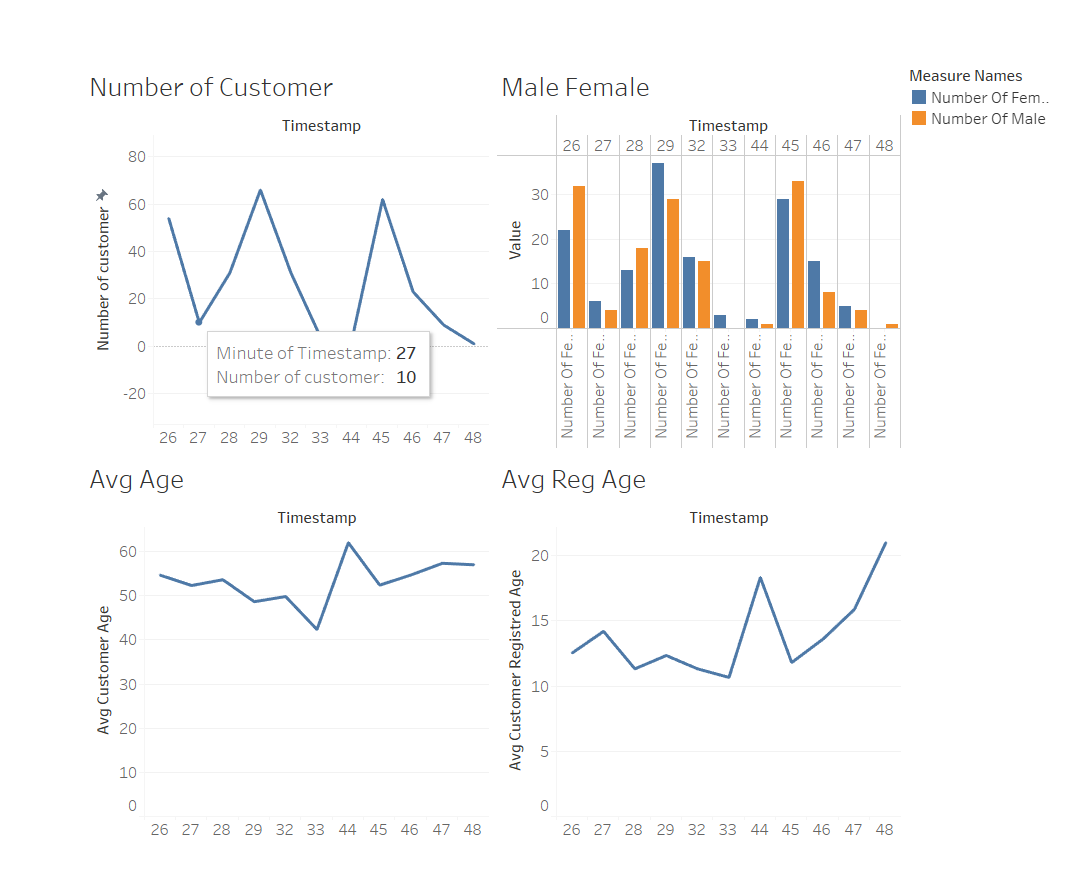

What the dashboard file says about the page in this screenshot:
{"tool":"tableau","page":{"name":"Dashboard 1","canvas":[1000,800],"ordinal":0},"visuals":[{"type":"worksheet","title":"Number of Customer","mark":"Automatic","rows":["Number_of_customer"],"cols":["timestamp"],"box":[8,8,412,392]},{"type":"worksheet","title":"Male Female","mark":"Bar","cols":["timestamp"],"box":[420,8,412,392]},{"type":"legend","title":"Male Female","param":"[federated.070rgpo16uerya1ep99d31vi705u].[:Measure Names]","box":[832,8,160,72]},{"type":"worksheet","title":"Avg Age","mark":"Automatic","rows":["avg_customer_age"],"cols":["timestamp"],"box":[8,400,412,392]},{"type":"worksheet","title":"Avg Reg Age","mark":"Automatic","rows":["avg_customer_registred_age"],"cols":["timestamp"],"box":[420,400,412,392]}]}

Visuals, with their boxes on the page's 1000x800 design canvas (x1, y1, x2, y2). These are canvas units, not pixel positions in the 1066x885 screenshot, which may show the page scaled, cropped or inside an application window:
"Number of Customer" worksheet: rect(8, 8, 420, 400)
"Male Female" worksheet (Bar marks): rect(420, 8, 832, 400)
"Male Female" legend: rect(832, 8, 992, 80)
"Avg Age" worksheet: rect(8, 400, 420, 792)
"Avg Reg Age" worksheet: rect(420, 400, 832, 792)
